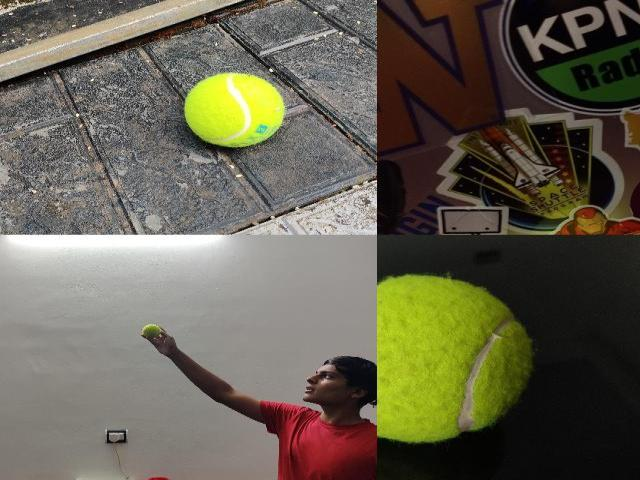tennis-ball: (377, 273, 535, 444), (185, 72, 285, 147), (142, 324, 160, 338)
